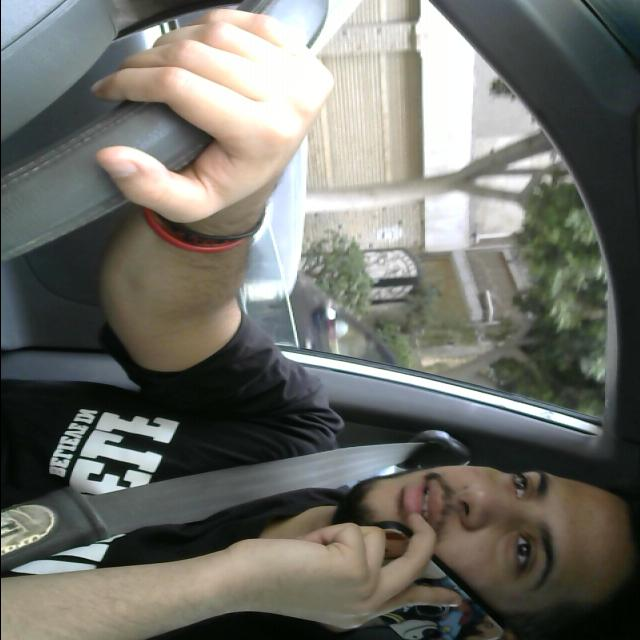mobile use: (278, 507, 518, 638)
